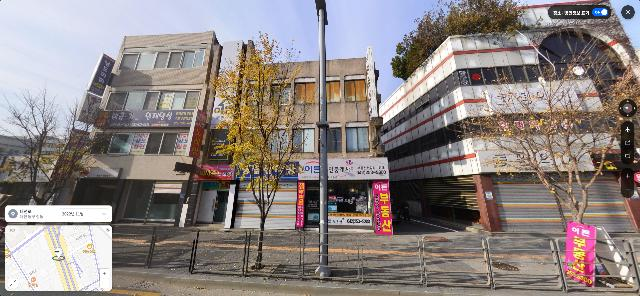ginkgo: (464, 22, 640, 226), (209, 32, 317, 269), (1, 81, 127, 205)
other: (389, 0, 537, 81)
